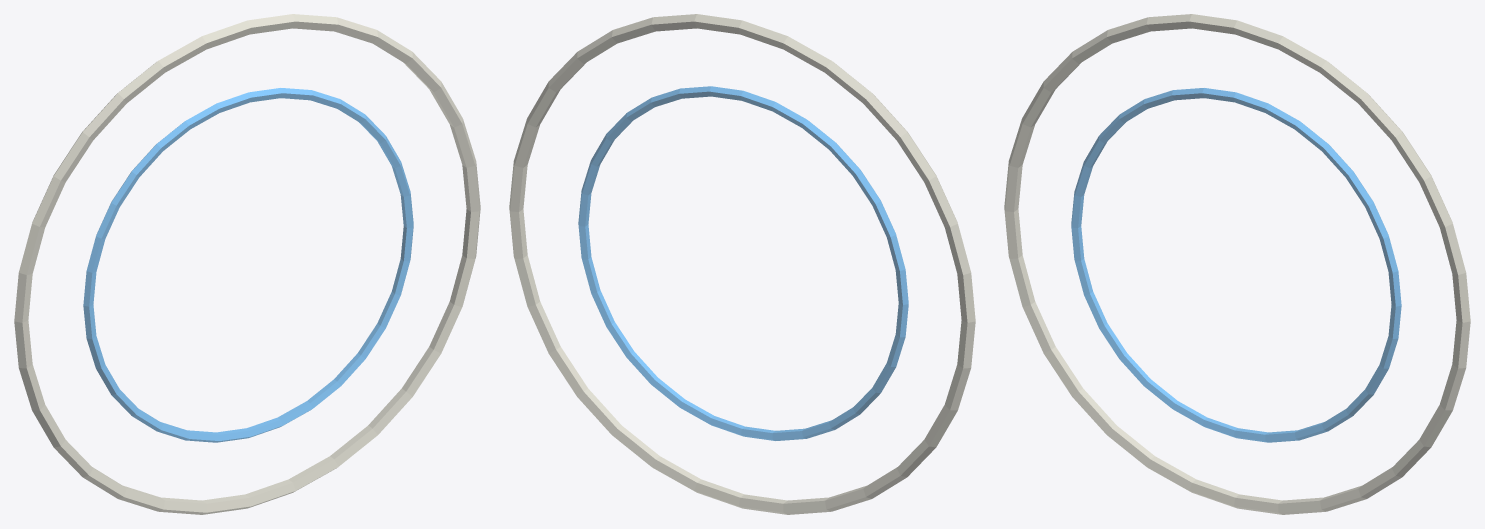
The model's file is vfx_spinning_attack_ring.glb.
3 views of the same model, side by side, from view 1: azimuth 30°, elevation 25°; view 2: azimuth 150°, elevation 25°; view 3: azimuth 330°, elevation 25° (orthographic).
Parts seen in each view (by area): view 1: outer, inner; view 2: outer, inner; view 3: outer, inner.
Boxes of the visible parts, bbox=[...] form: outer: bbox=[14, 14, 480, 514]; inner: bbox=[83, 88, 413, 442]; outer: bbox=[509, 14, 975, 514]; inner: bbox=[578, 86, 908, 440]; outer: bbox=[1004, 14, 1470, 514]; inner: bbox=[1071, 88, 1401, 442].
Bounding box in the file's own units: 2.47 × 2.47 × 0.0671.
